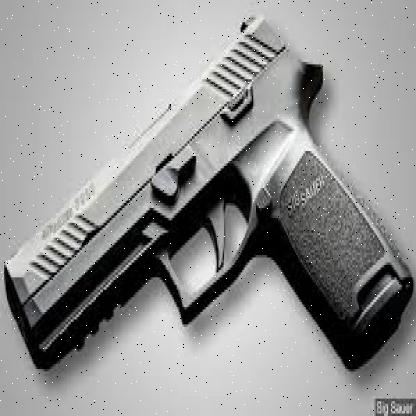gun: (3, 7, 415, 407)
